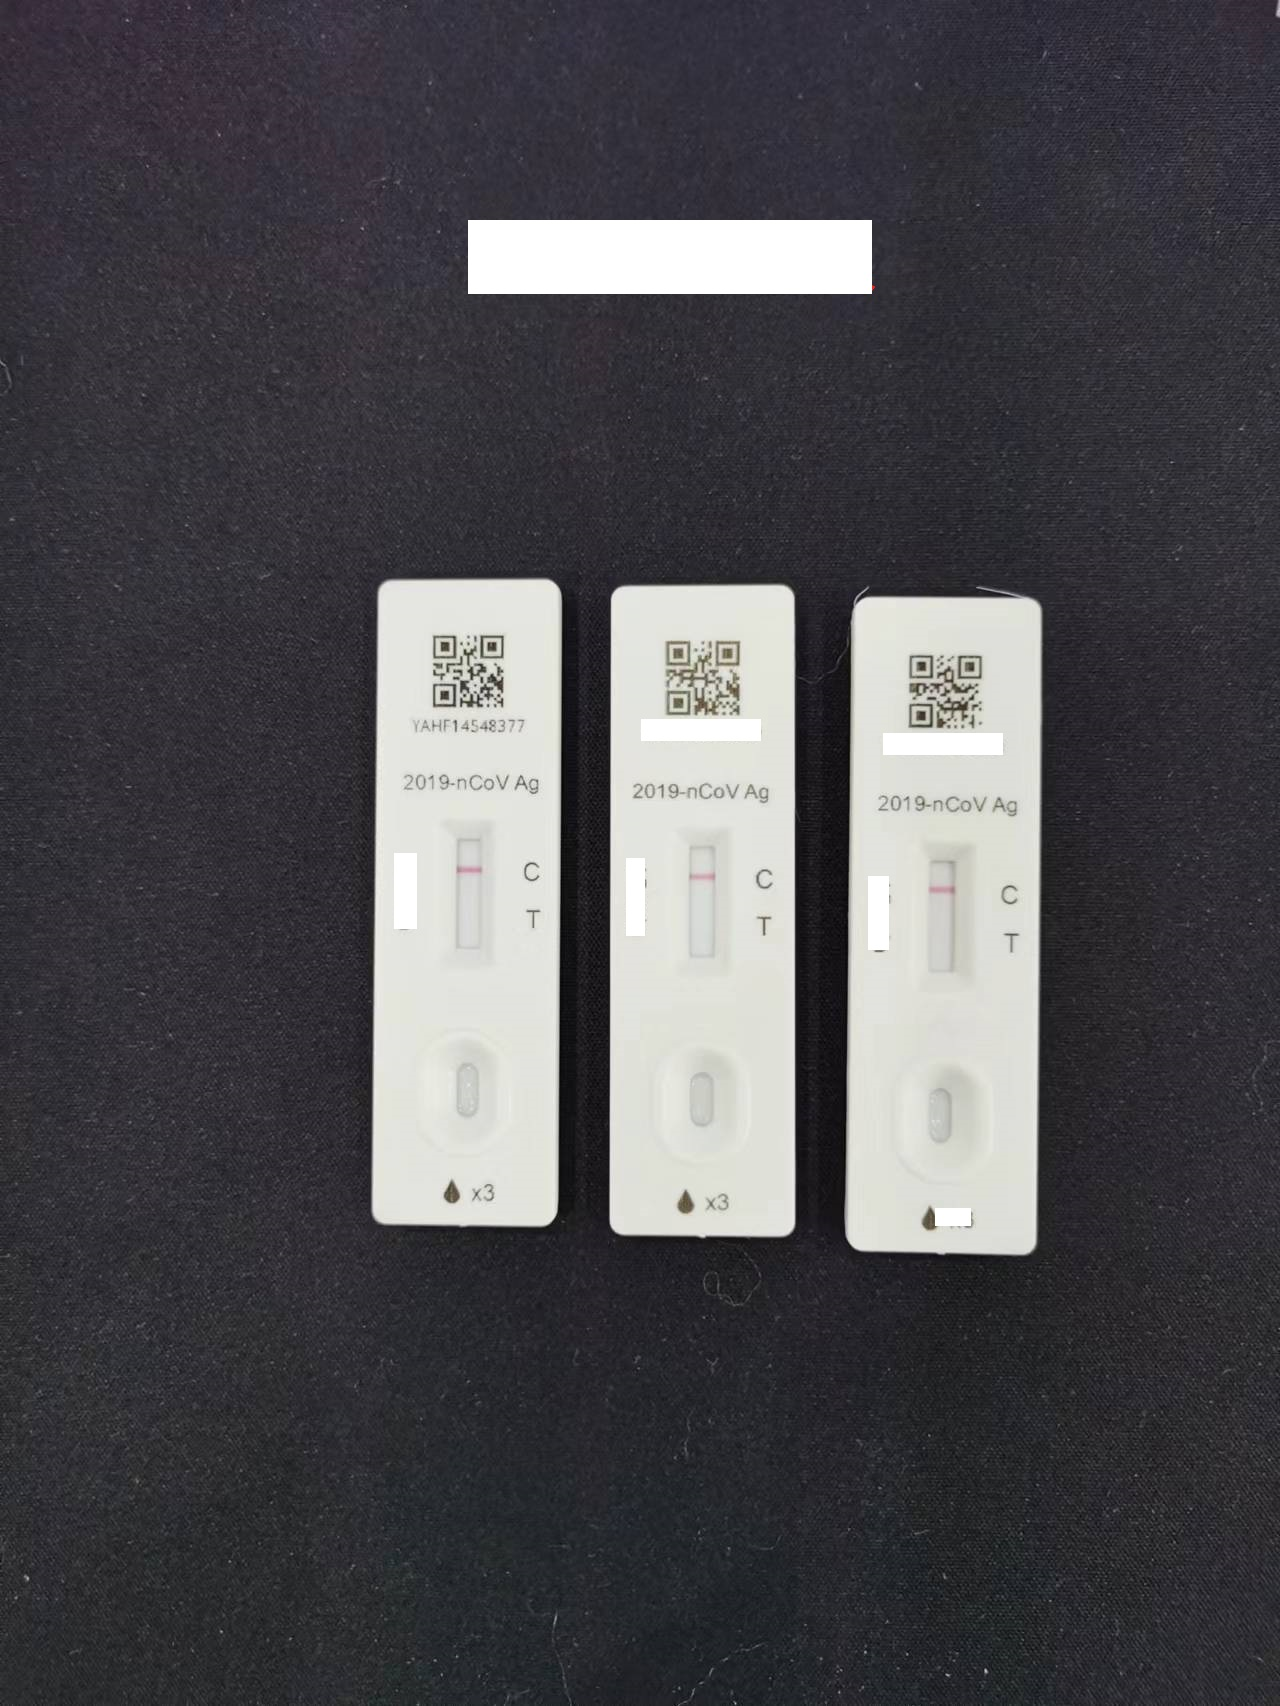negative: (914, 842, 973, 981), (442, 819, 493, 963), (675, 828, 726, 964)
